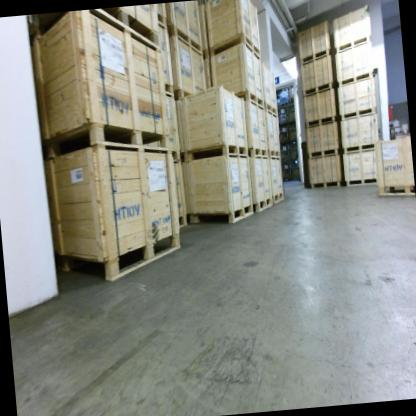pallet: (282, 87, 291, 92), (279, 102, 290, 106), (287, 99, 295, 104)
stillage: (280, 162, 293, 182), (286, 103, 297, 126), (287, 123, 299, 144), (280, 143, 290, 165), (289, 141, 300, 161), (290, 162, 302, 180), (278, 105, 288, 126), (279, 124, 289, 144)
